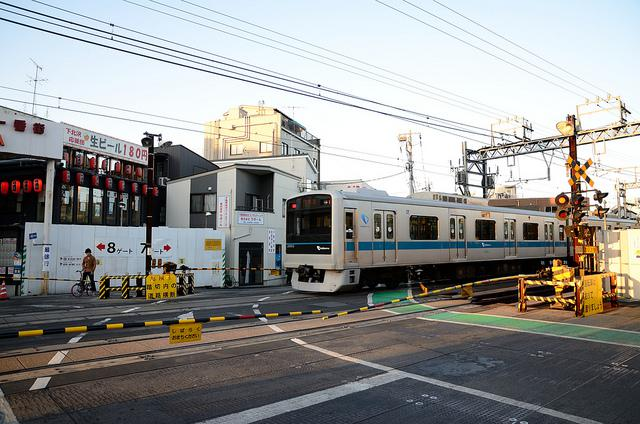Train: (284, 193, 569, 294)
